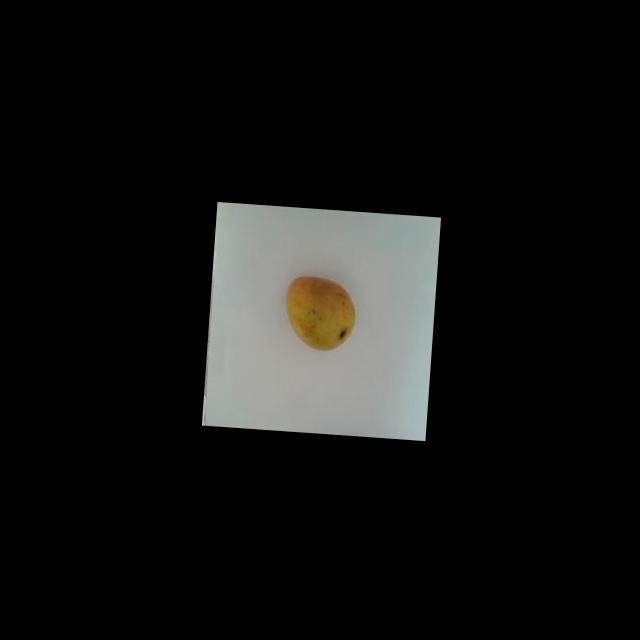Mango: (281, 274, 357, 352)
